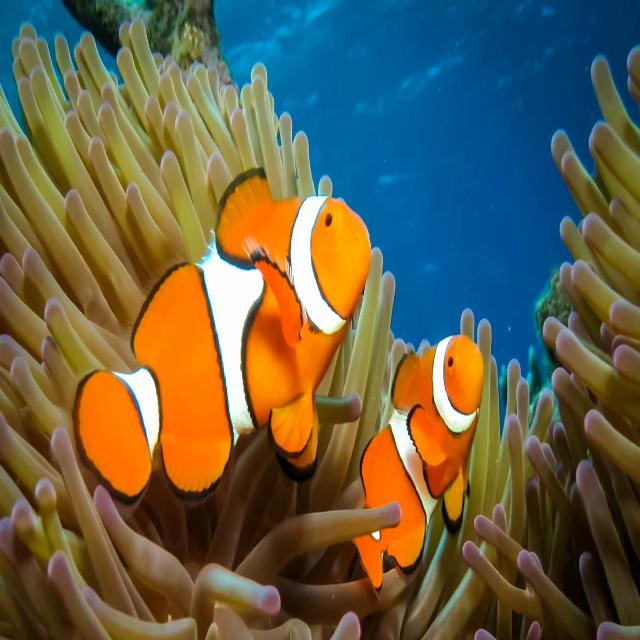ClownFish: (69, 170, 370, 496), (358, 323, 481, 591)
